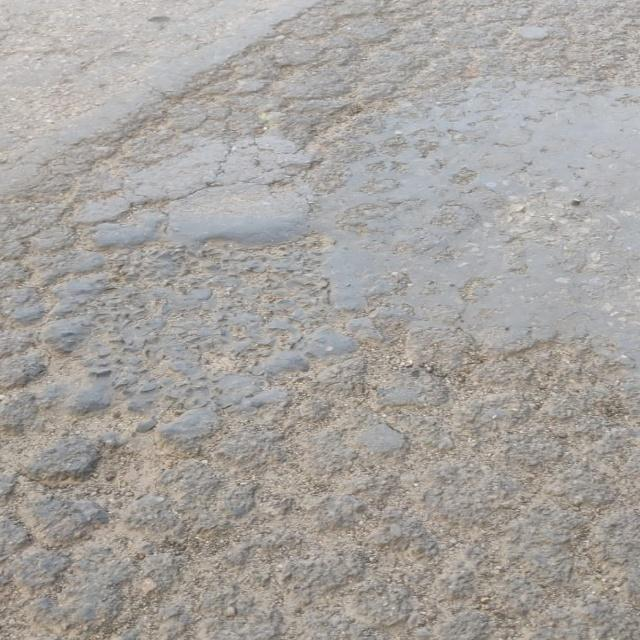Surface Erosion: (1, 0, 630, 640)
